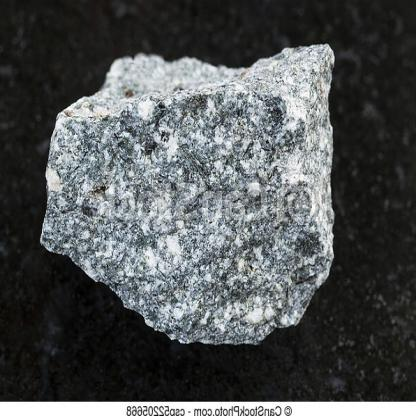Igneous_Diorite: (38, 29, 346, 350)
